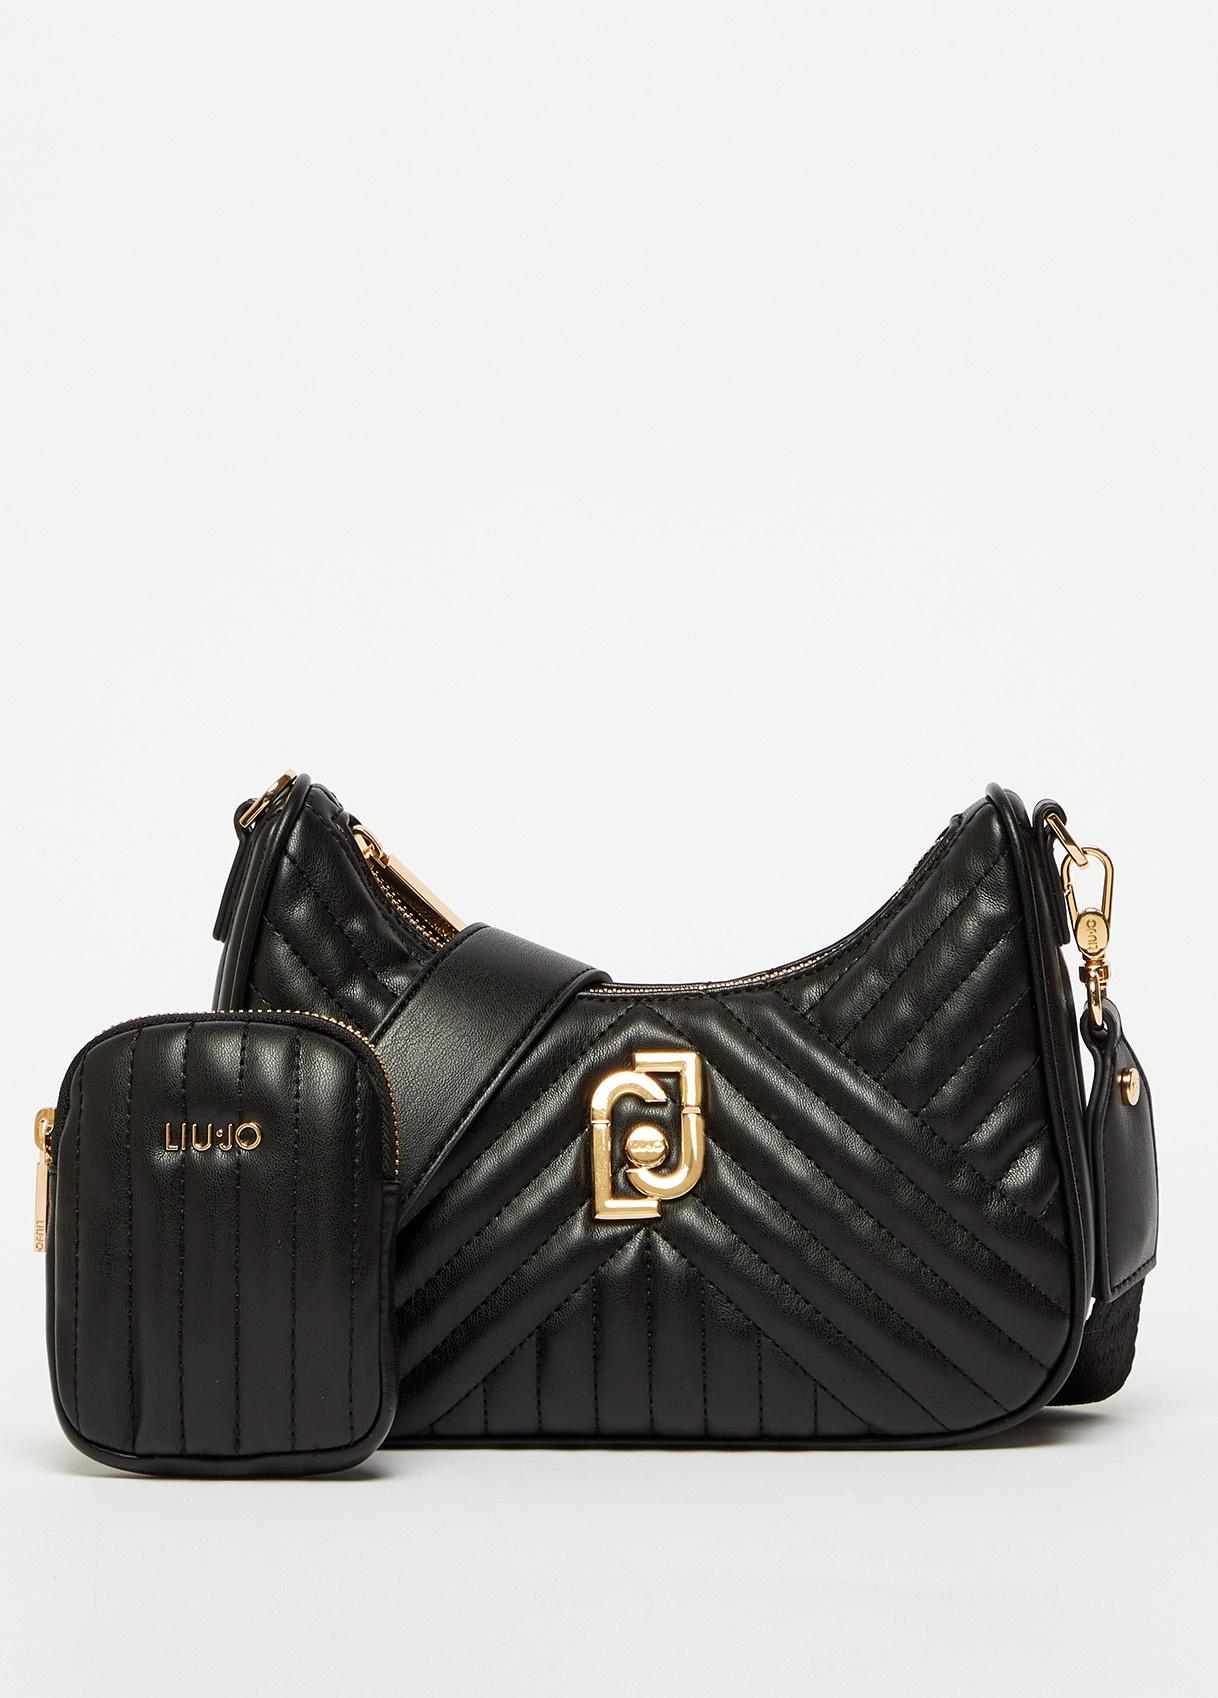LIU-JO: (589, 1049, 707, 1222)
